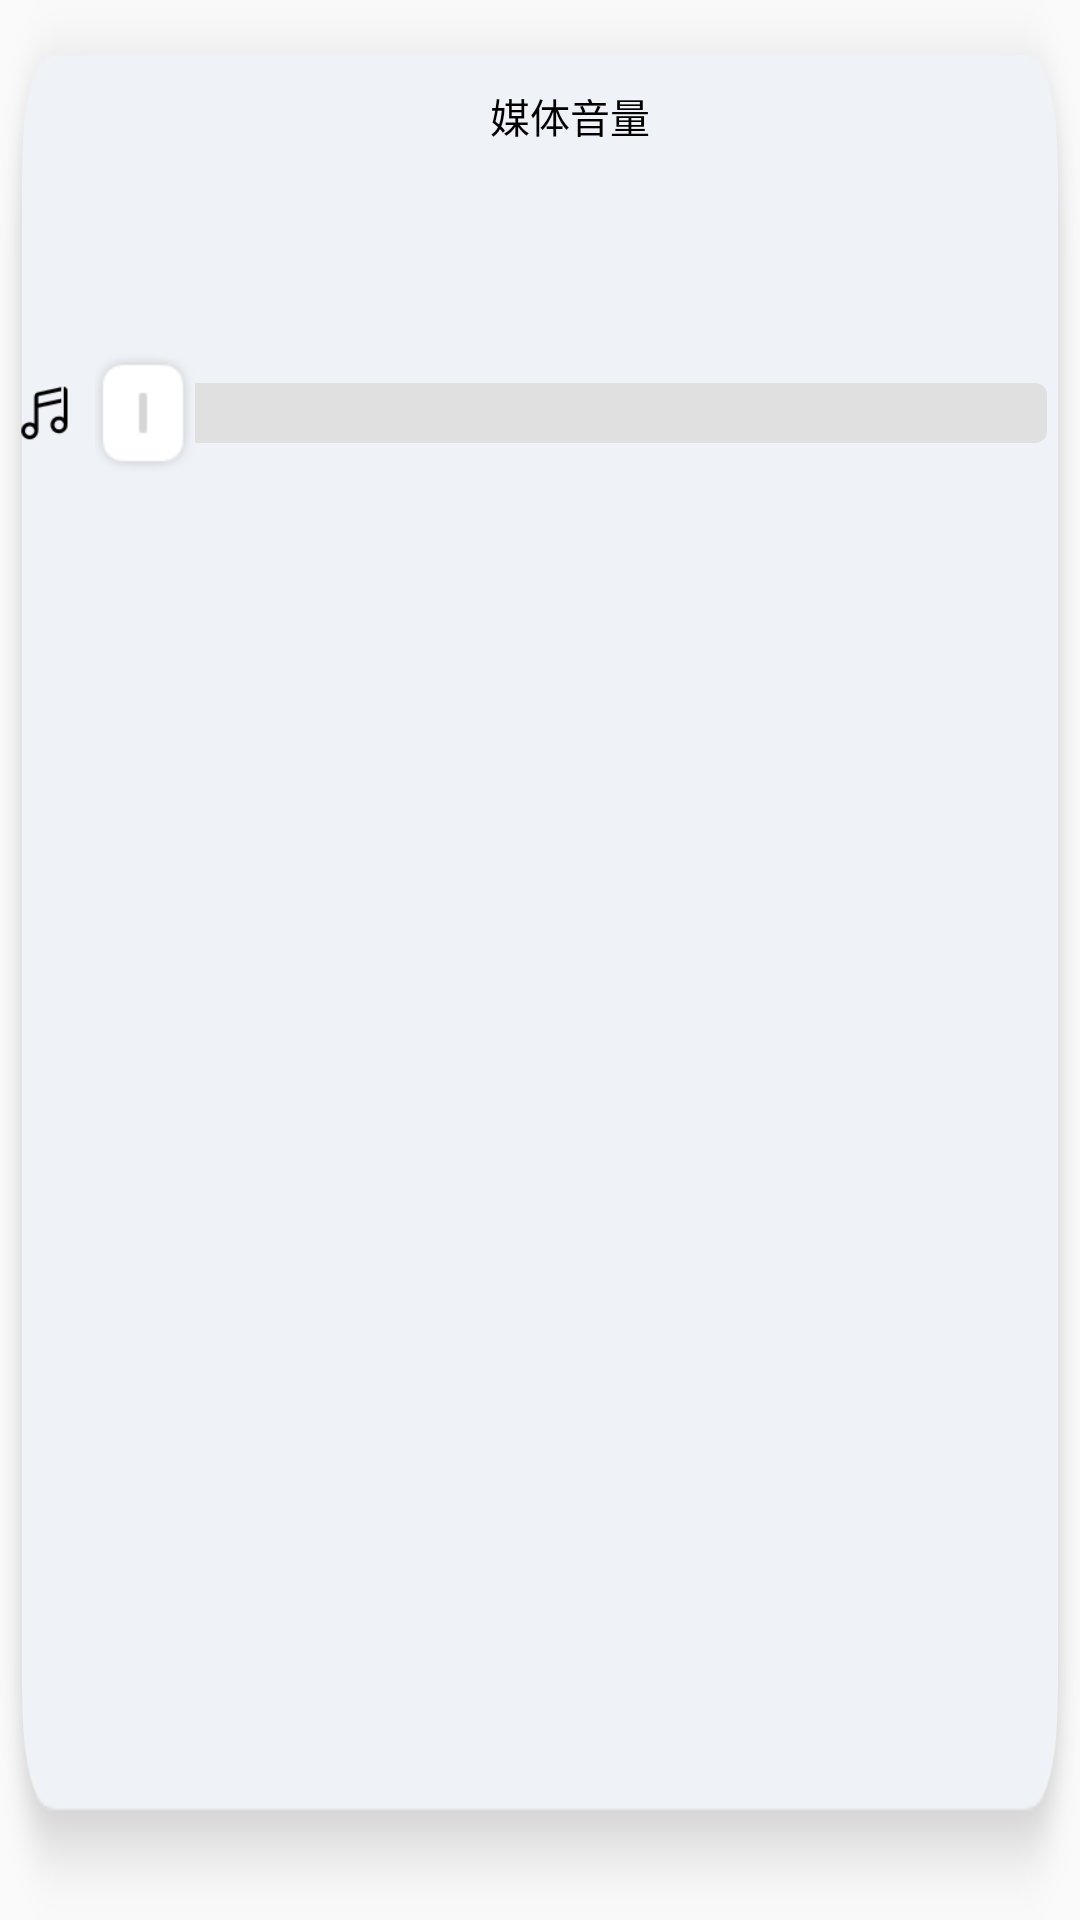

Icons on this 1080px x 1920px Android screen, each with its box as {"x1": x1, "y1": y1, "x2": x2, "y2": y2}:
meitiyinliang gw: {"x1": 21, "y1": 386, "x2": 68, "y2": 440}
